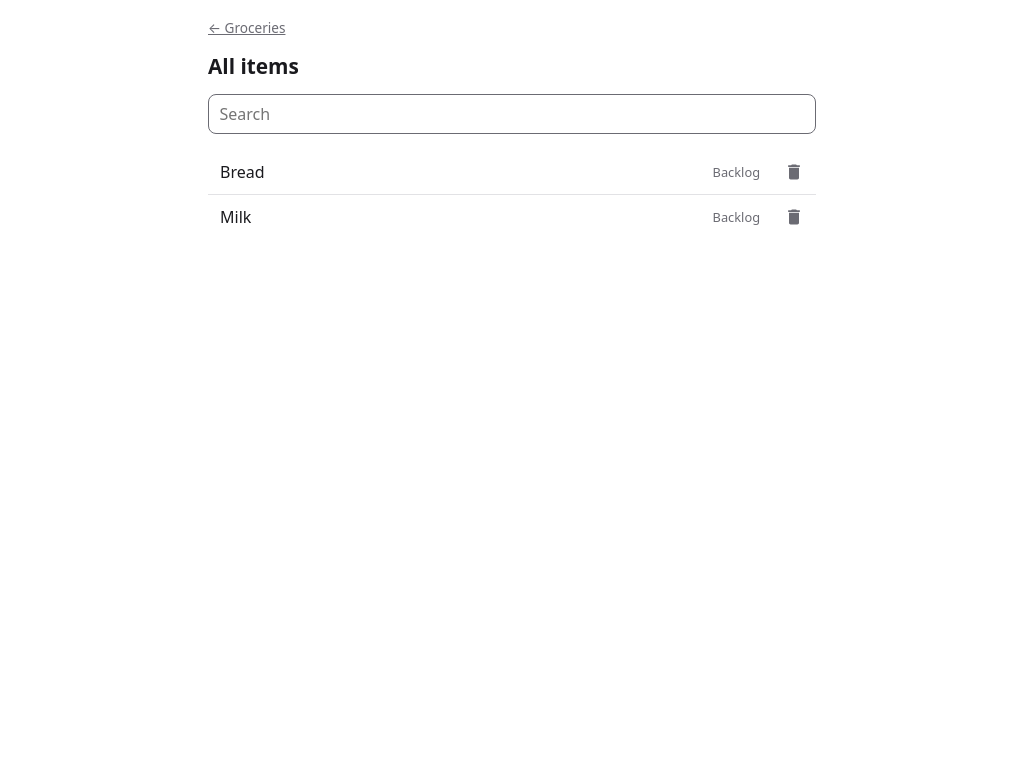
Test: RegistryPage item dialog autocomplete › offers the list's categories when editing an item from here (T-145)
Click the text "Bread": {"x": 242, "y": 172} [220,161,264,183]
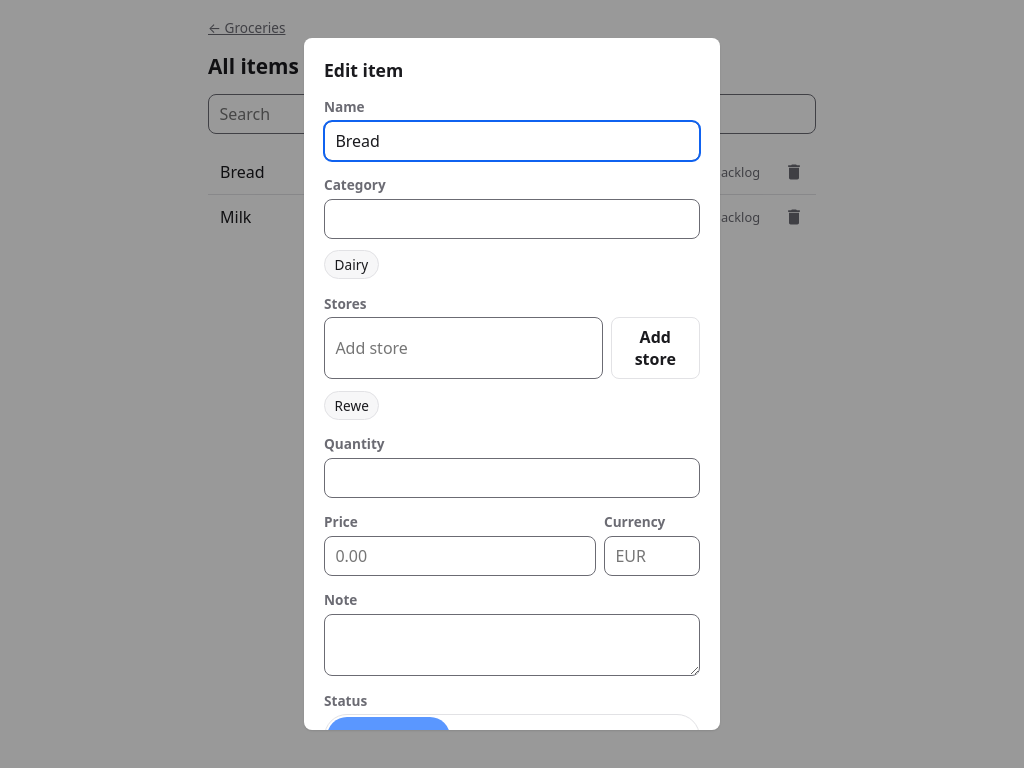
Check: the field labelled "Category" is shown, box [324,199,700,239]
Check: the button "Dairy" is shown, box [324,250,379,279]
